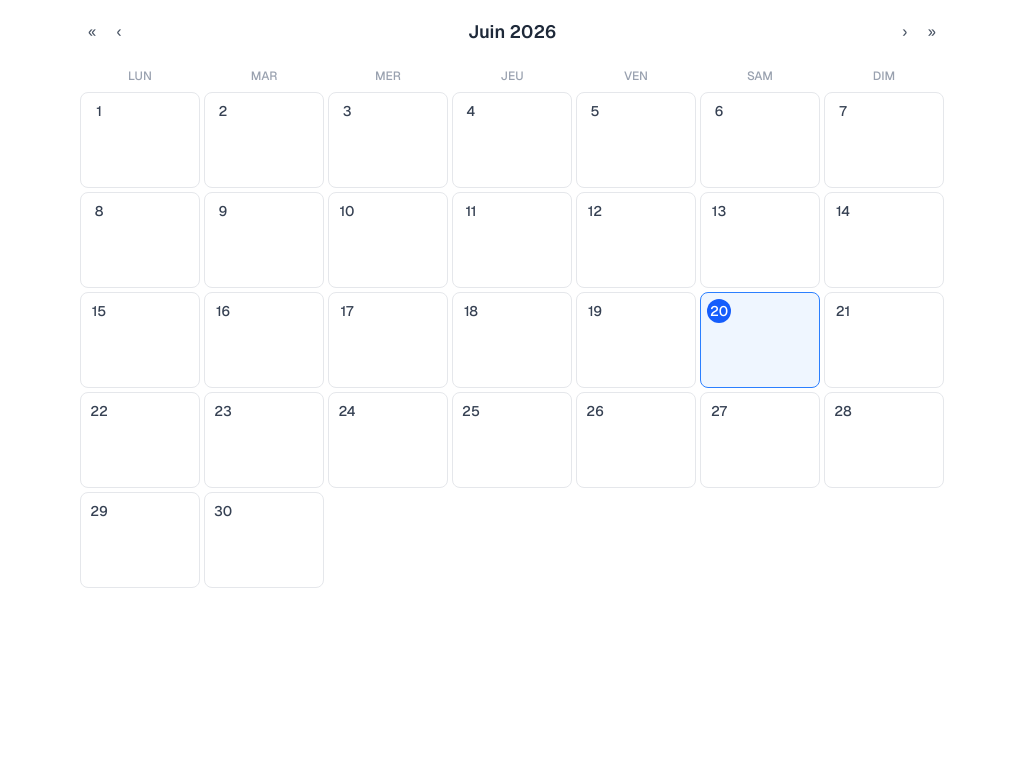
Scenario: Calendar › closes the modal when Annuler is clicked
Click the button "1". click: (140, 140)
box: 80,92 -> 200,188
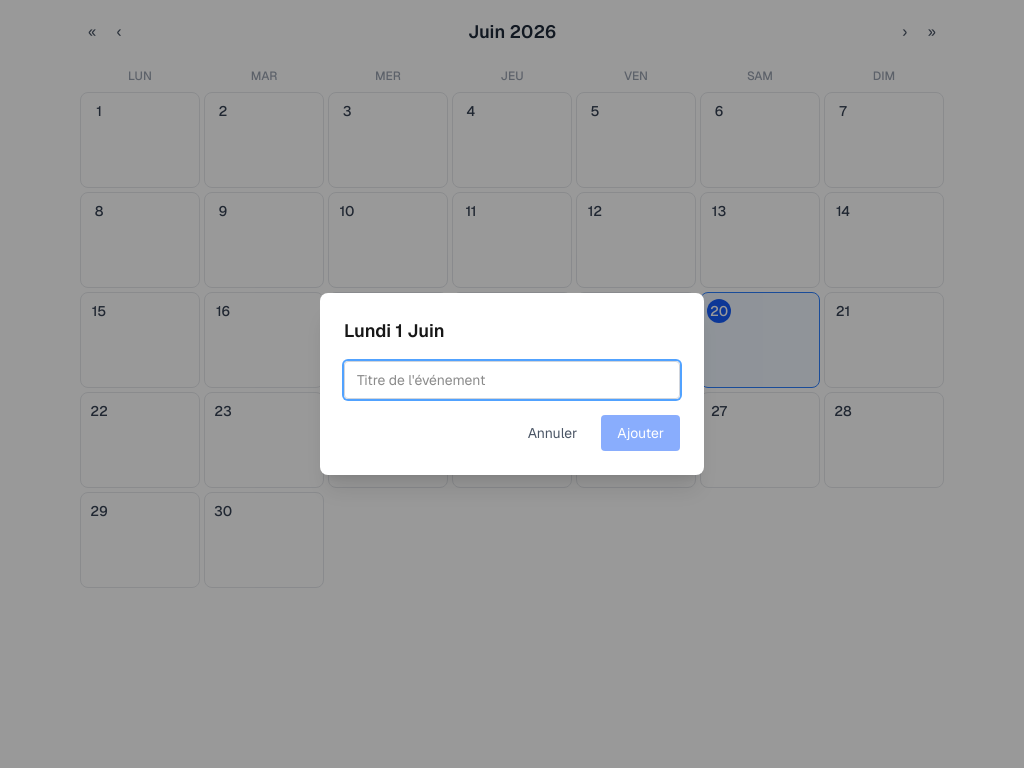
Click the button "Annuler". click: (552, 433)
box: 512,415 -> 593,451
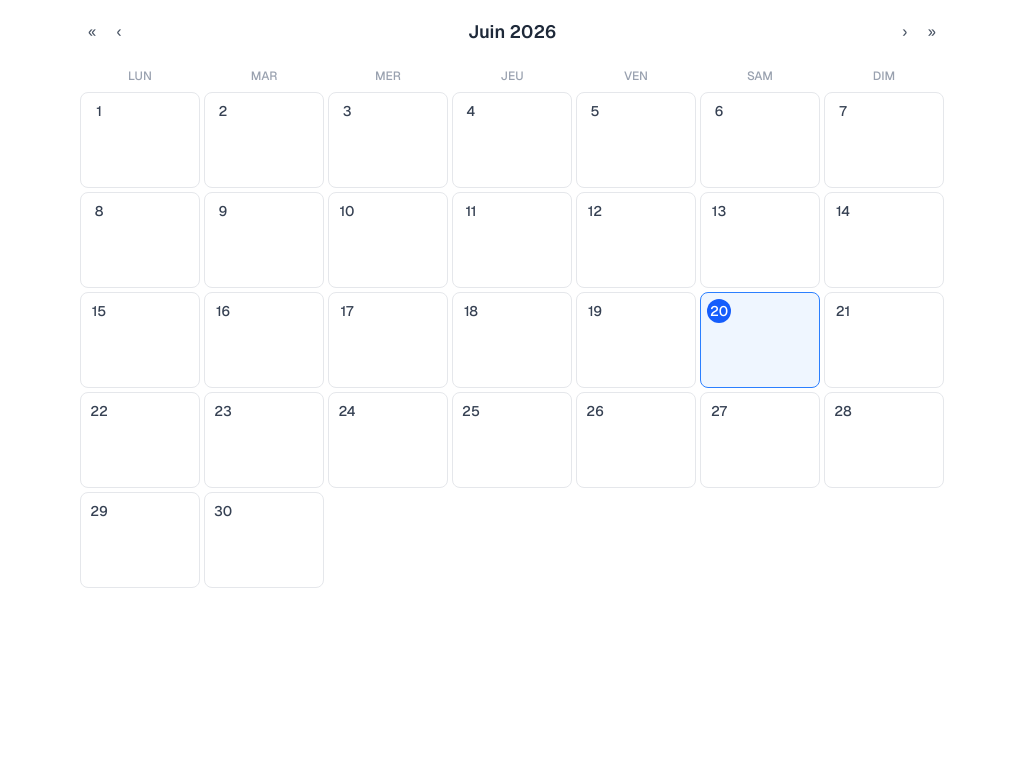
Expected: the dialog is gone
